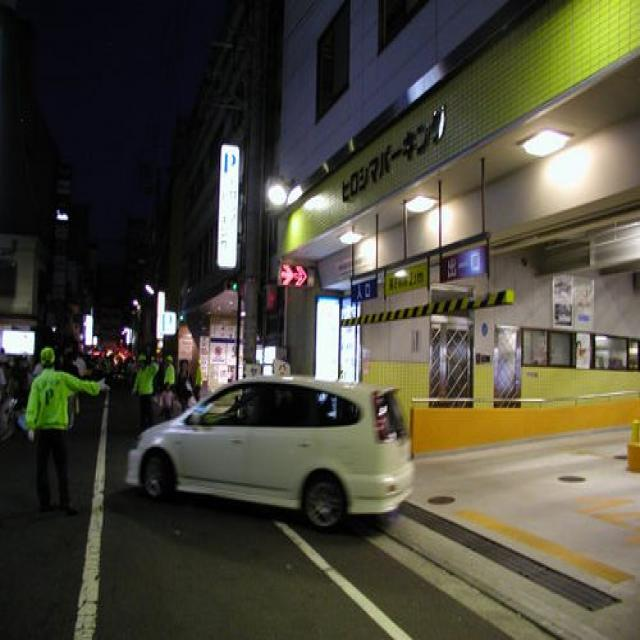Car: (124, 380, 410, 544)
